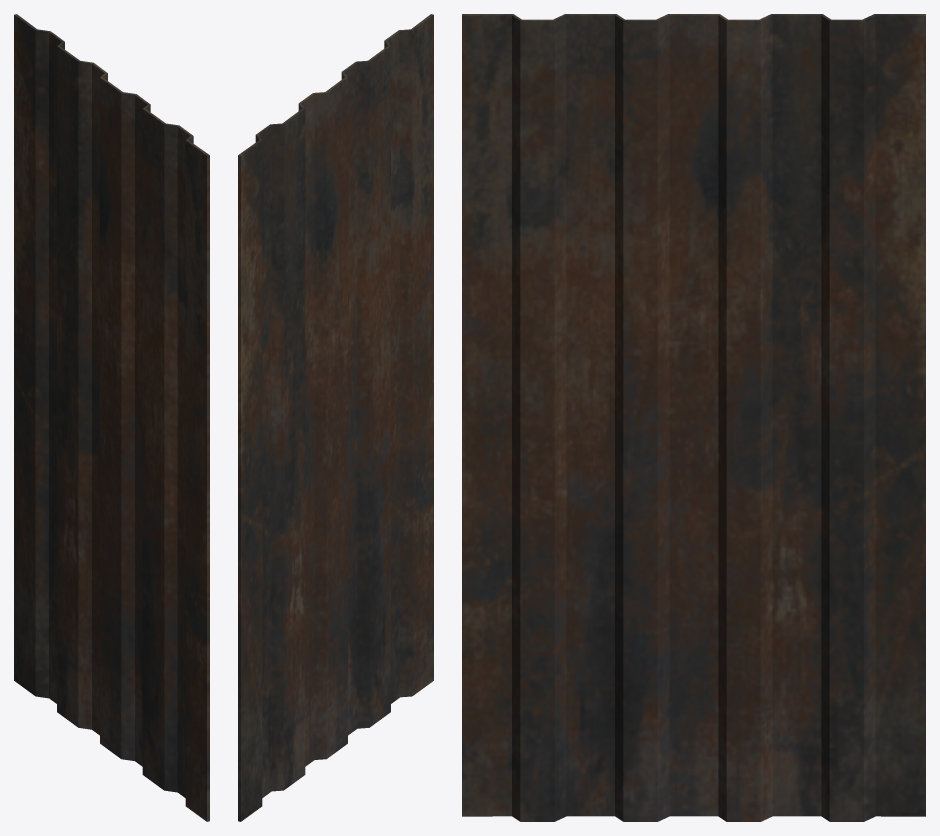
Rendered from Metal_Plate_A.fbx.
3 renders of one model, left to right at view 1: azimuth 30°, elevation 25°; view 2: azimuth 150°, elevation 25°; view 3: azimuth 270°, elevation 25°, orthographic. The views are drawn at different scales.
Visible parts, largest first — view 1: Metal_plate; view 2: Metal_plate; view 3: Metal_plate.
Boxes of the visible parts, x1=… form: Metal_plate: x1=14, y1=14, x2=209, y2=821; Metal_plate: x1=238, y1=14, x2=433, y2=821; Metal_plate: x1=462, y1=14, x2=925, y2=821.
Size of the model in its own units: 3.43 by 200 by 105.
